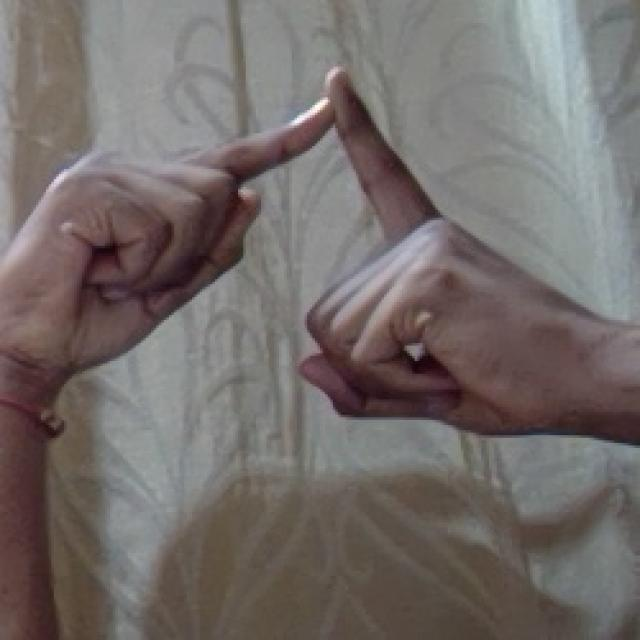Alphabet-E: (10, 65, 627, 465)
